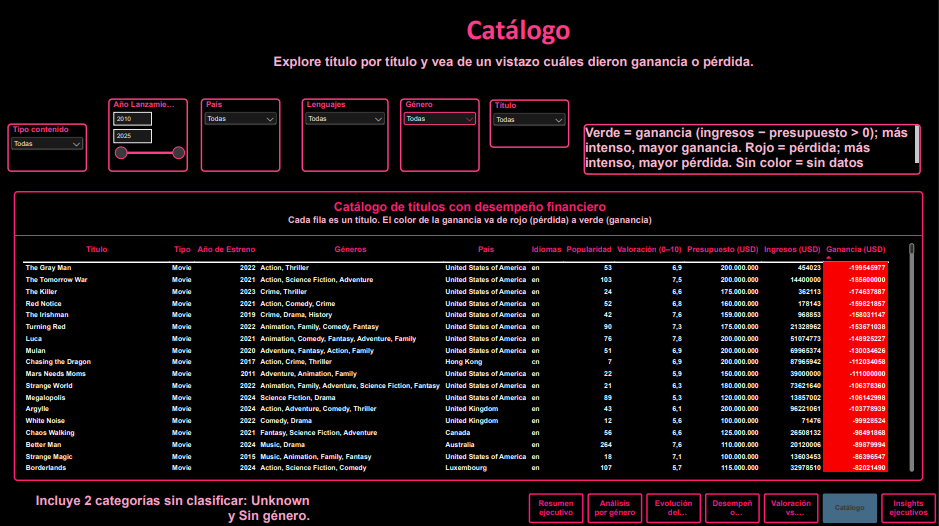

This screenshot's page, from the dashboard's own definition file:
{"tool":"powerbi","page":{"name":"Catálogo","canvas":[1920,1080],"ordinal":6},"visuals":[{"type":"textbox","box":[740.2,27.1,642.4,85.1],"z":0},{"type":"textbox","box":[561.1,113,1042.6,46.3],"z":1},{"type":"slicer","fields":{"Values":["catalogo.content_type"]},"box":[16.6,255.4,162.7,99.2],"z":2},{"type":"slicer","fields":{"Values":["catalogo.release_year"]},"box":[222.7,204.4,163,150],"z":3},{"type":"slicer","fields":{"Values":["catalogo.pais_principal"]},"box":[411.8,204.4,163,150],"z":4},{"type":"slicer","fields":{"Values":["catalogo.language"]},"box":[617.8,204.4,178,150],"z":5},{"type":"slicer","fields":{"Values":["catalogo.genero"]},"box":[818.5,203.7,163,150],"z":6},{"type":"slicer","fields":{"Values":["catalogo.title"]},"box":[1001.9,205.6,162.7,99.2],"z":8},{"type":"tableEx","title":"Catálogo de títulos con desempeño financiero","fields":{"Values":["catalogo.title","catalogo.content_type","catalogo.release_year","catalogo.generos_titulo","catalogo.pais_principal","catalogo.language","Avg(catalogo.popularity)","Avg(catalogo.vote_average_valida)","catalogo.Presupuesto (película)","catalogo.Ingresos (película)","catalogo.Ganancia (película)"]},"box":[50,394.4,1857.4,655.6],"z":9},{"type":"actionButton","box":[0,0,100,40],"z":10},{"type":"textbox","box":[1194.4,255.6,688.9,103.7],"z":11}]}

Visuals, with their boxes in screenshot pixels (x1, y1, x2, y2), scaled from the page's 1920x1080 canvas onto the 939x526 screenshot:
textbox: (362, 13, 676, 55)
textbox: (274, 55, 784, 78)
slicer - catalogo.content_type: (8, 124, 88, 173)
slicer - catalogo.release_year: (109, 100, 189, 173)
slicer - catalogo.pais_principal: (201, 100, 281, 173)
slicer - catalogo.language: (302, 100, 389, 173)
slicer - catalogo.genero: (400, 99, 480, 172)
slicer - catalogo.title: (490, 100, 570, 148)
"Catálogo de títulos con desempeño financiero" tableEx: (24, 192, 933, 511)
actionButton: (0, 0, 49, 19)
textbox: (584, 124, 921, 175)
